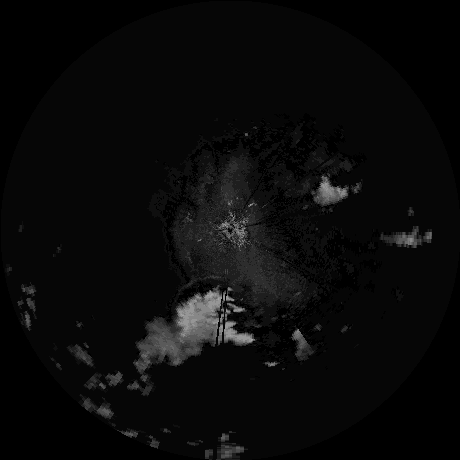frontgust: (175, 275, 229, 299)
